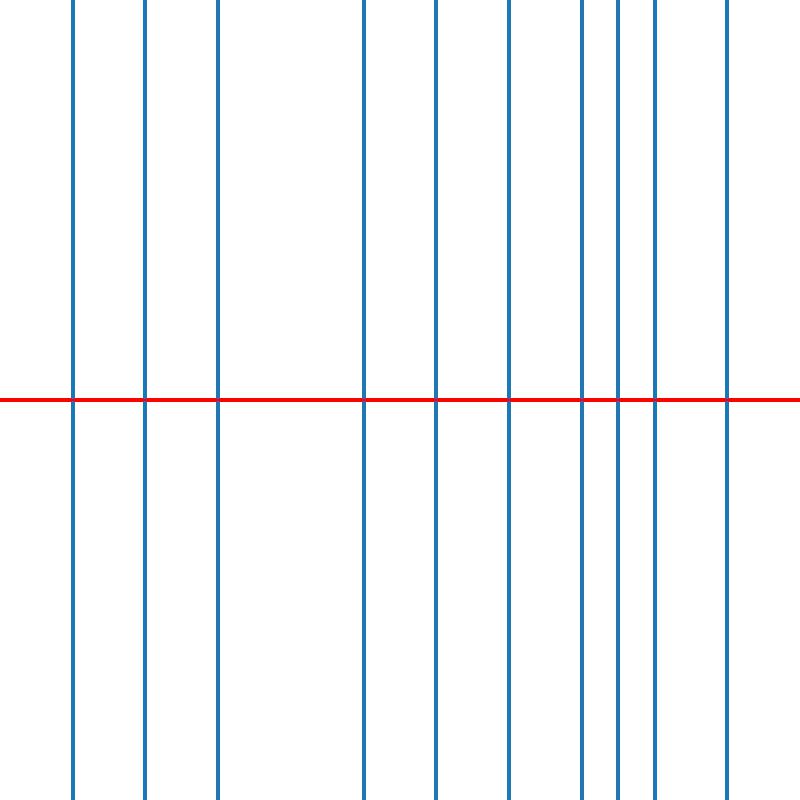root: (650, 396, 658, 404), (141, 396, 149, 404), (432, 396, 440, 404), (578, 396, 585, 404), (614, 396, 621, 404), (723, 396, 730, 404), (69, 396, 76, 404), (505, 396, 512, 404), (214, 396, 221, 404), (360, 396, 367, 404)
